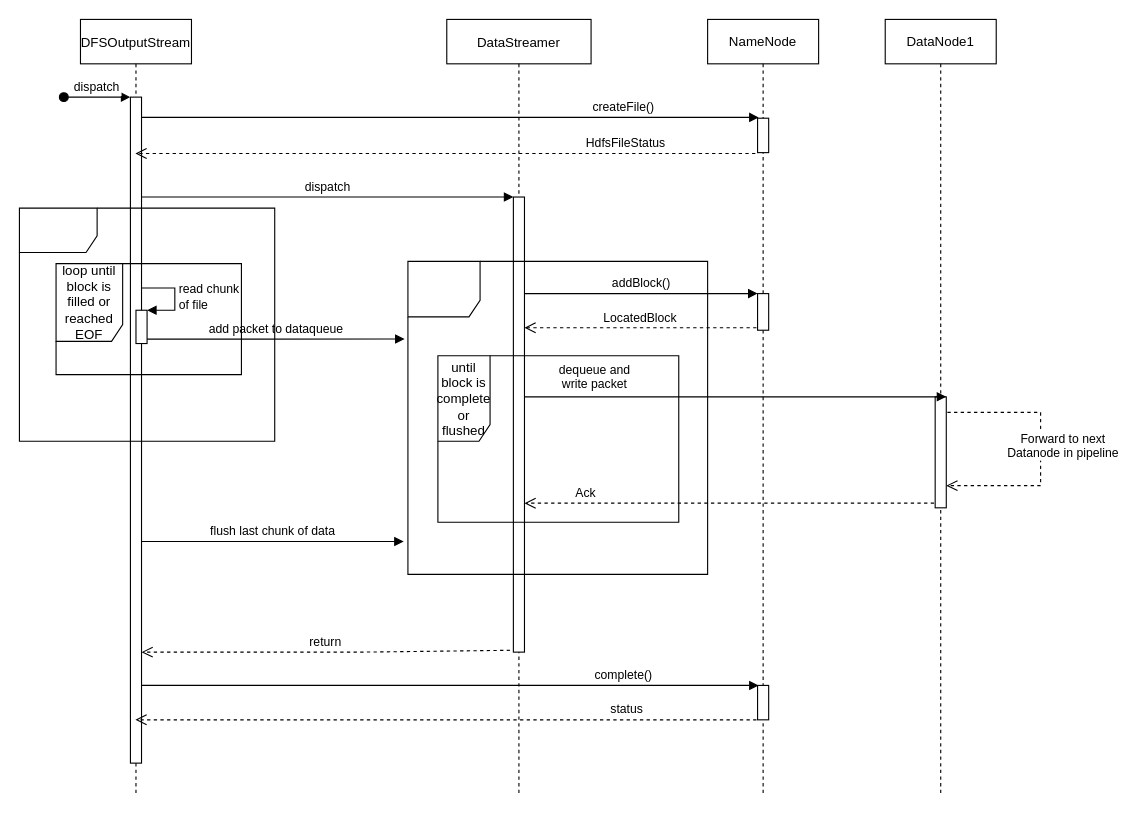
Image size: 1138x816. Some labels were removed from this diagram. The centre of each missing label's shape, as x and y in pixels:
poll for packets in dataqueue: [557,417]
read all file content: [146,324]
